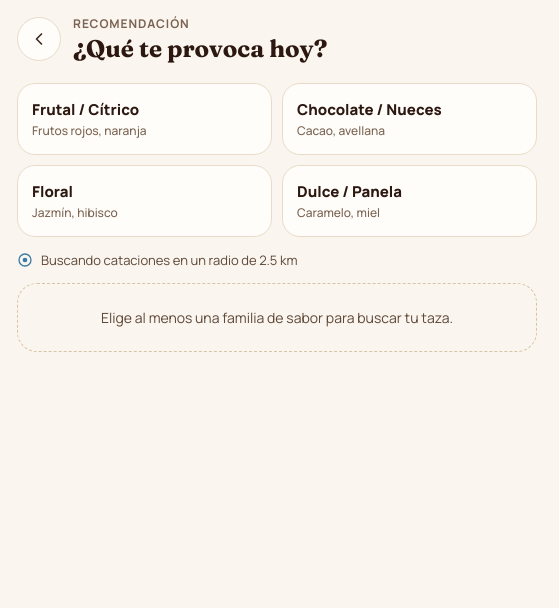
Test case: RecomendacionPage › deshabilita "Otra opción" cuando solo hay un resultado
Click the button "Chocolate / Nueces Cacao, avellana".
click(410, 119)  # box [282,83,537,155]
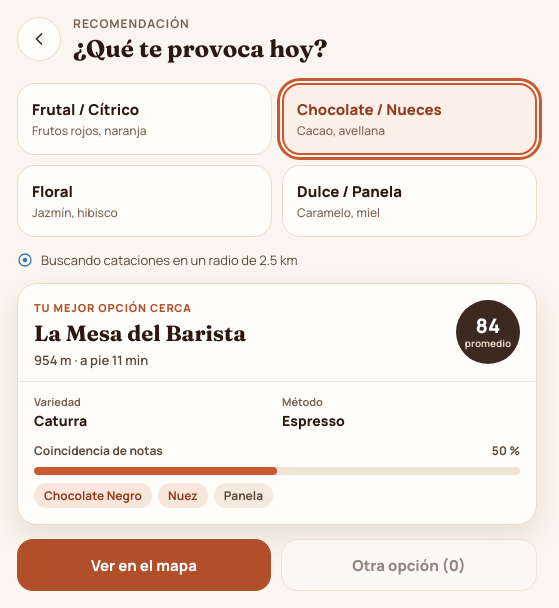
Expected: the heading "La Mesa del Barista" is shown, [34,319,246,347]
Expected: the button "Otra opción (0)" is disabled, [281,539,537,591]
